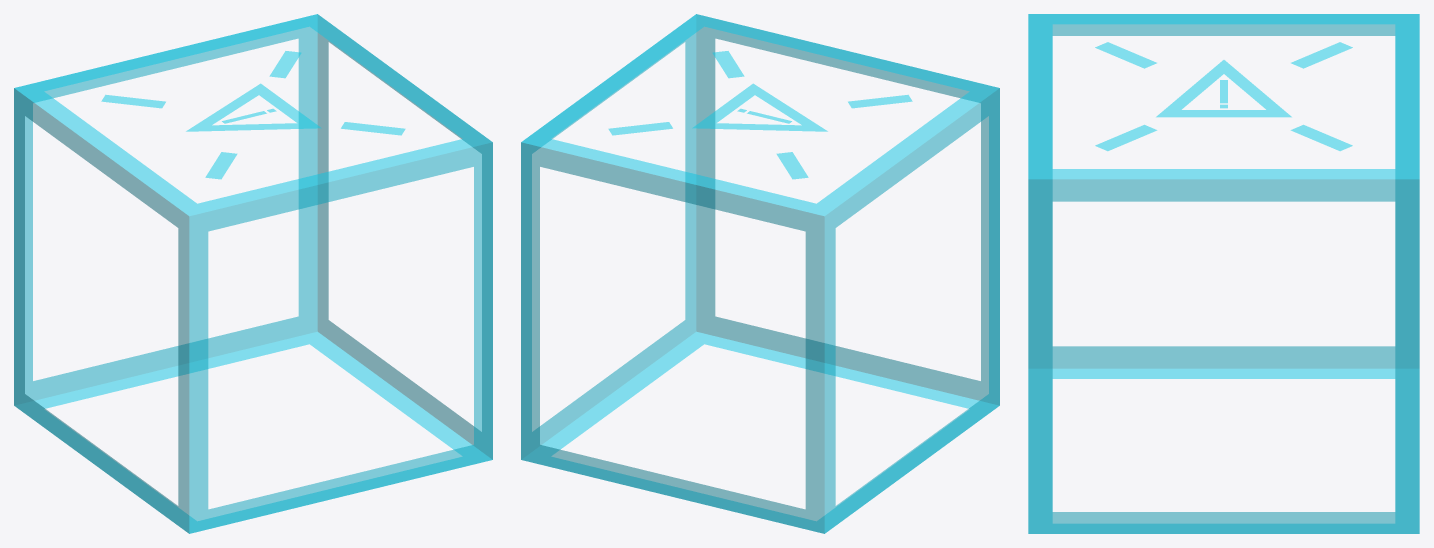
3 views of the same model, side by side, from view 1: azimuth 30°, elevation 25°; view 2: azimuth 150°, elevation 25°; view 3: azimuth 270°, elevation 25° (orthographic). The views are drawn at different scales.
Visible parts, largest first — view 1: Cube, Plane; view 2: Cube, Plane; view 3: Cube, Plane, Plane.001, Plane.004, Plane.002, Plane.003.
Boxes of the visible parts, x1,y1,x2,y2 form: Cube: (14,14,492,533); Plane: (186,83,321,131); Cube: (521,14,999,533); Plane: (692,83,827,131); Cube: (1028,14,1419,533); Plane: (1156,60,1291,117); Plane.001: (1291,42,1352,68); Plane.004: (1095,42,1156,68); Plane.002: (1291,125,1352,150); Plane.003: (1095,125,1156,150).
Bounding box in the file's own units: 2 × 2 × 2.
